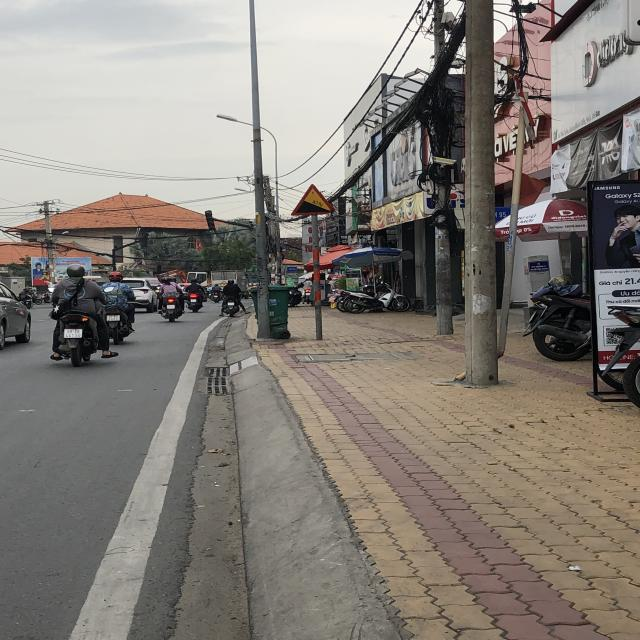Bien bao doc xuong nguy hiem: (291, 184, 339, 218)
